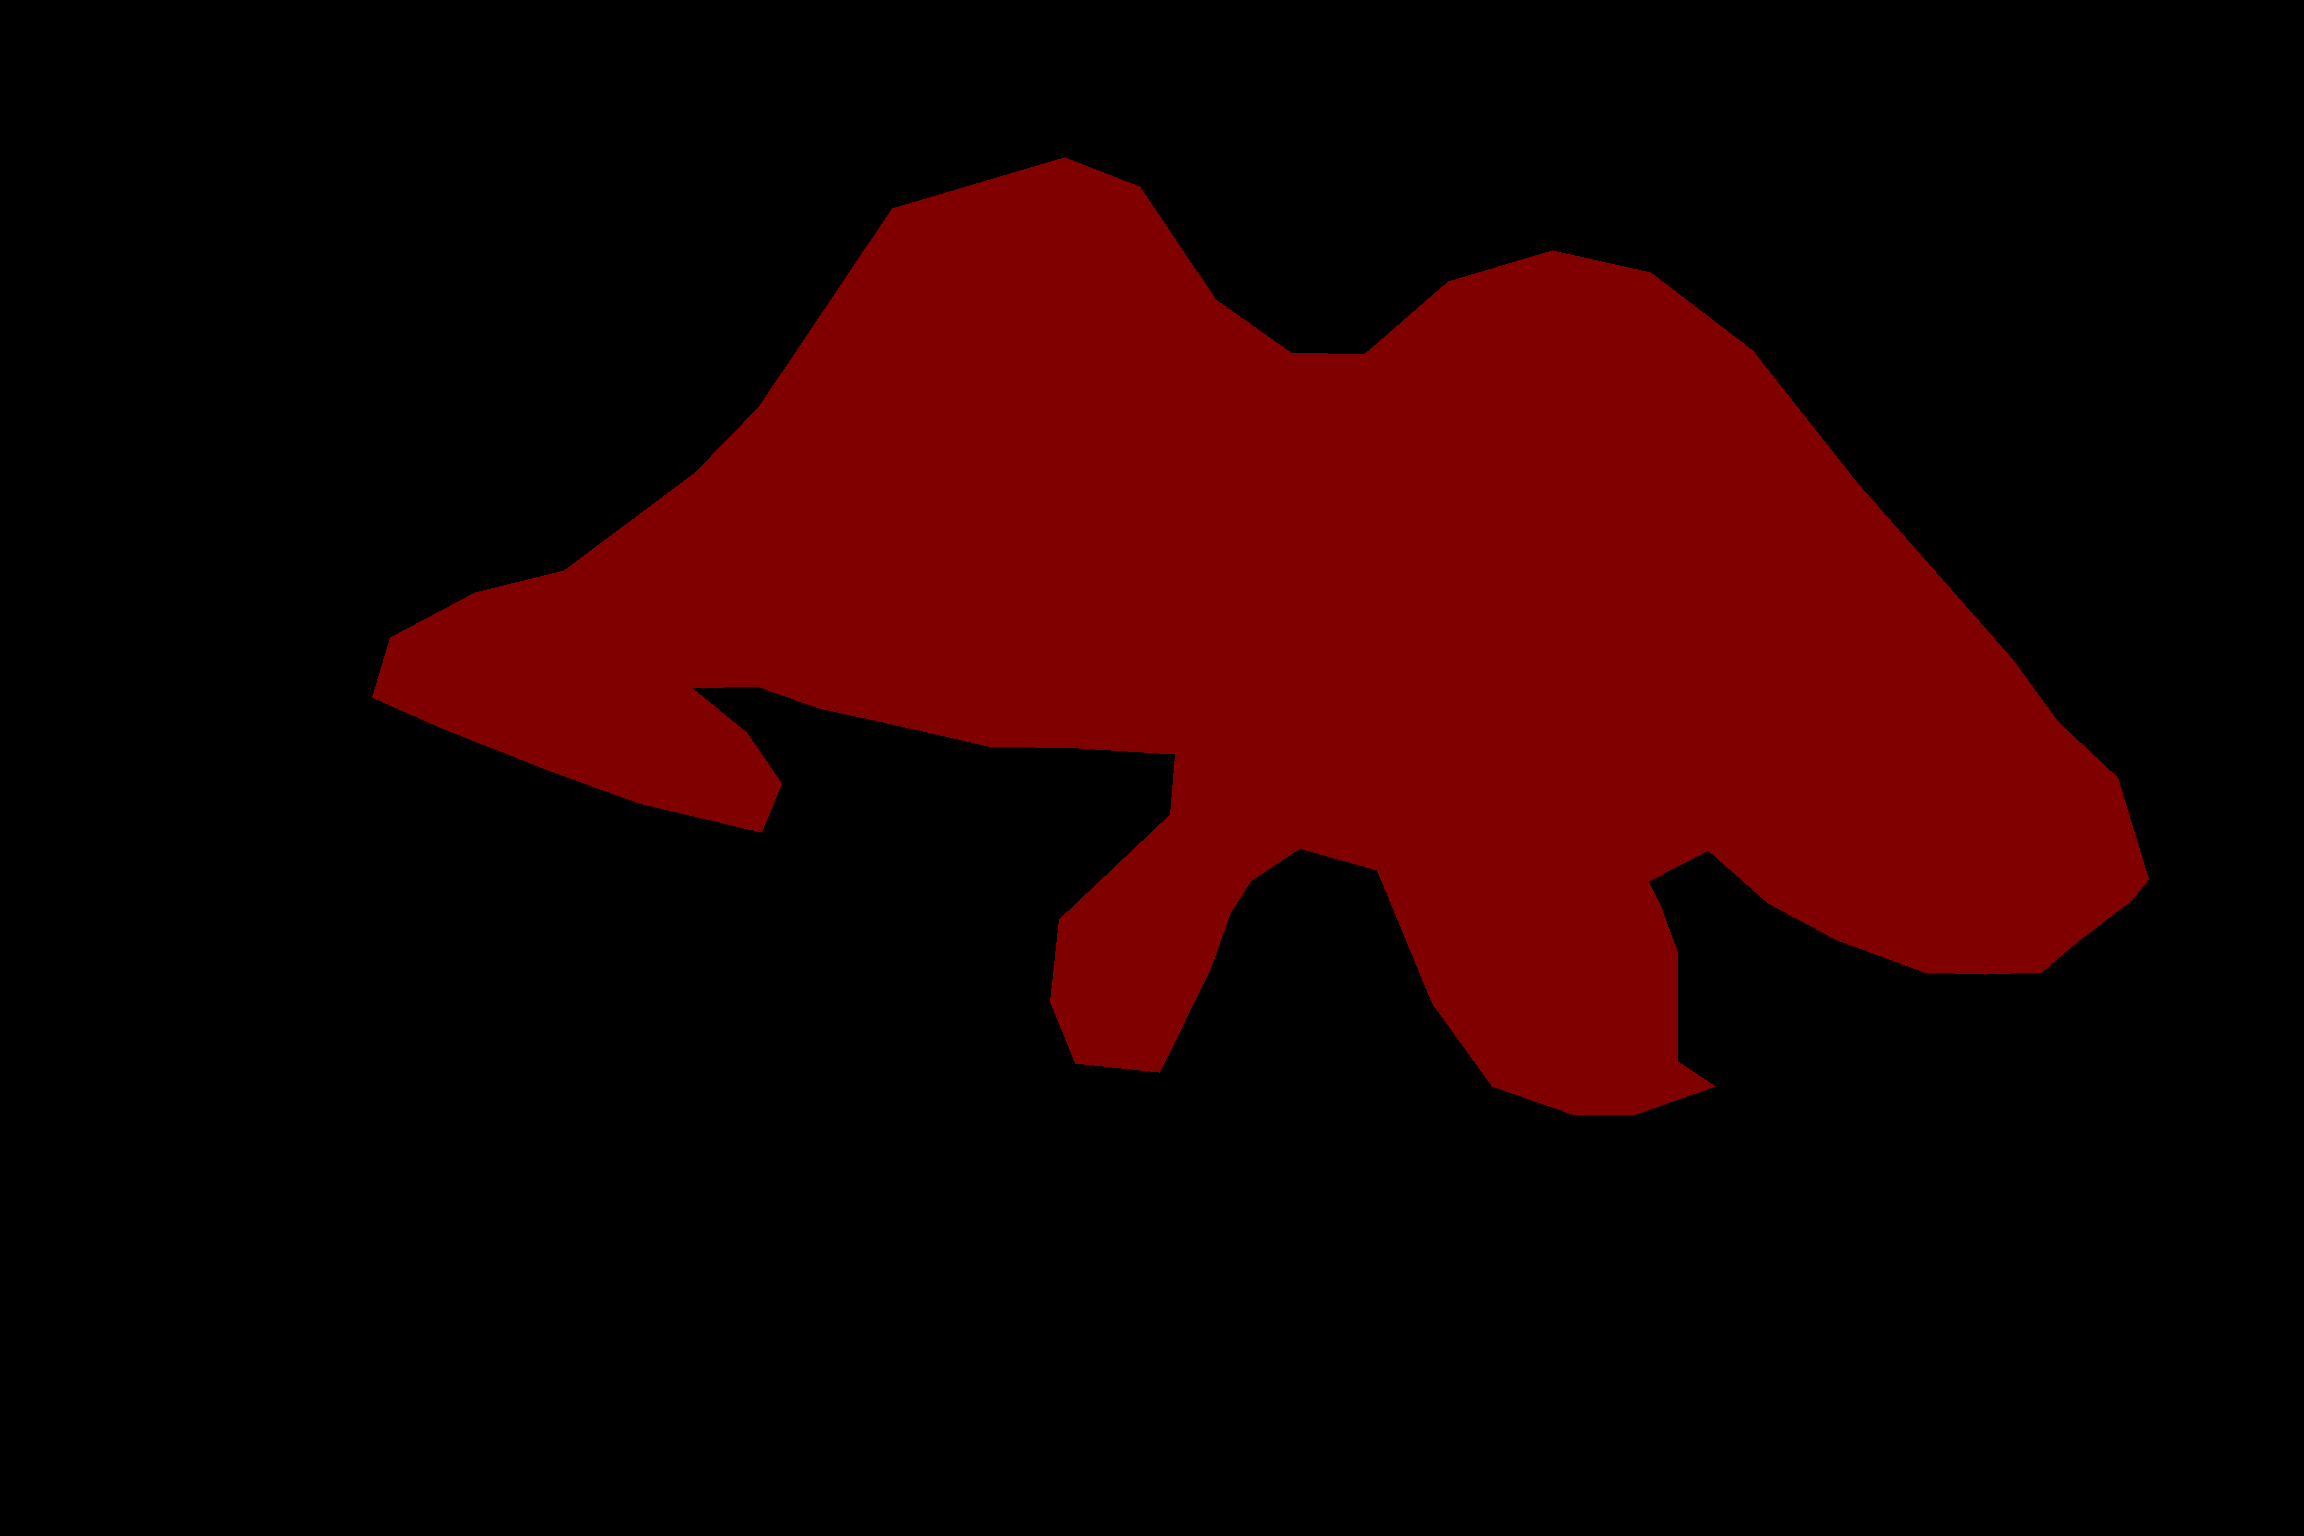fire: (372, 158, 2148, 1114)
